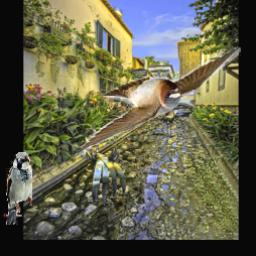Sparrow: (6, 152, 32, 225)
Swallow: (72, 47, 241, 158)
